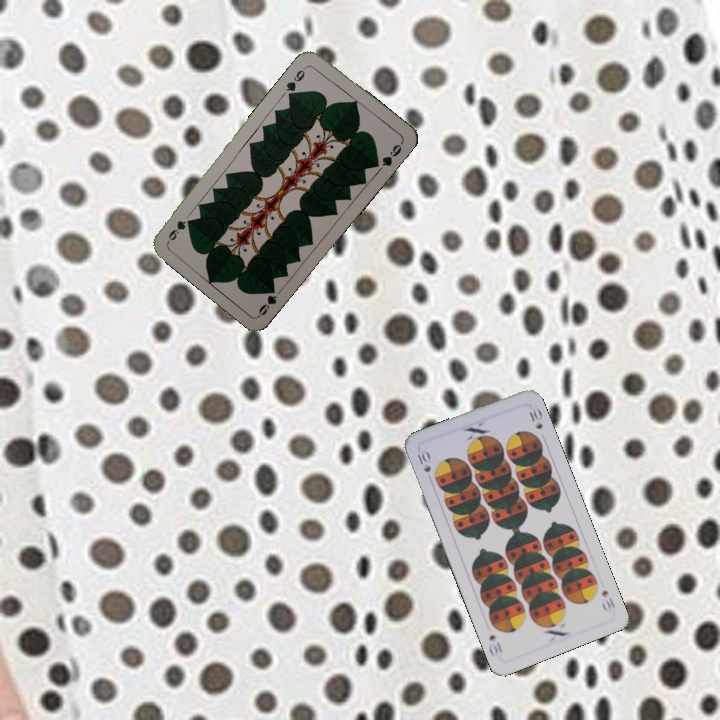G9: (282, 62, 310, 98), (254, 284, 279, 318)
S10: (413, 447, 433, 475), (598, 586, 618, 611)
